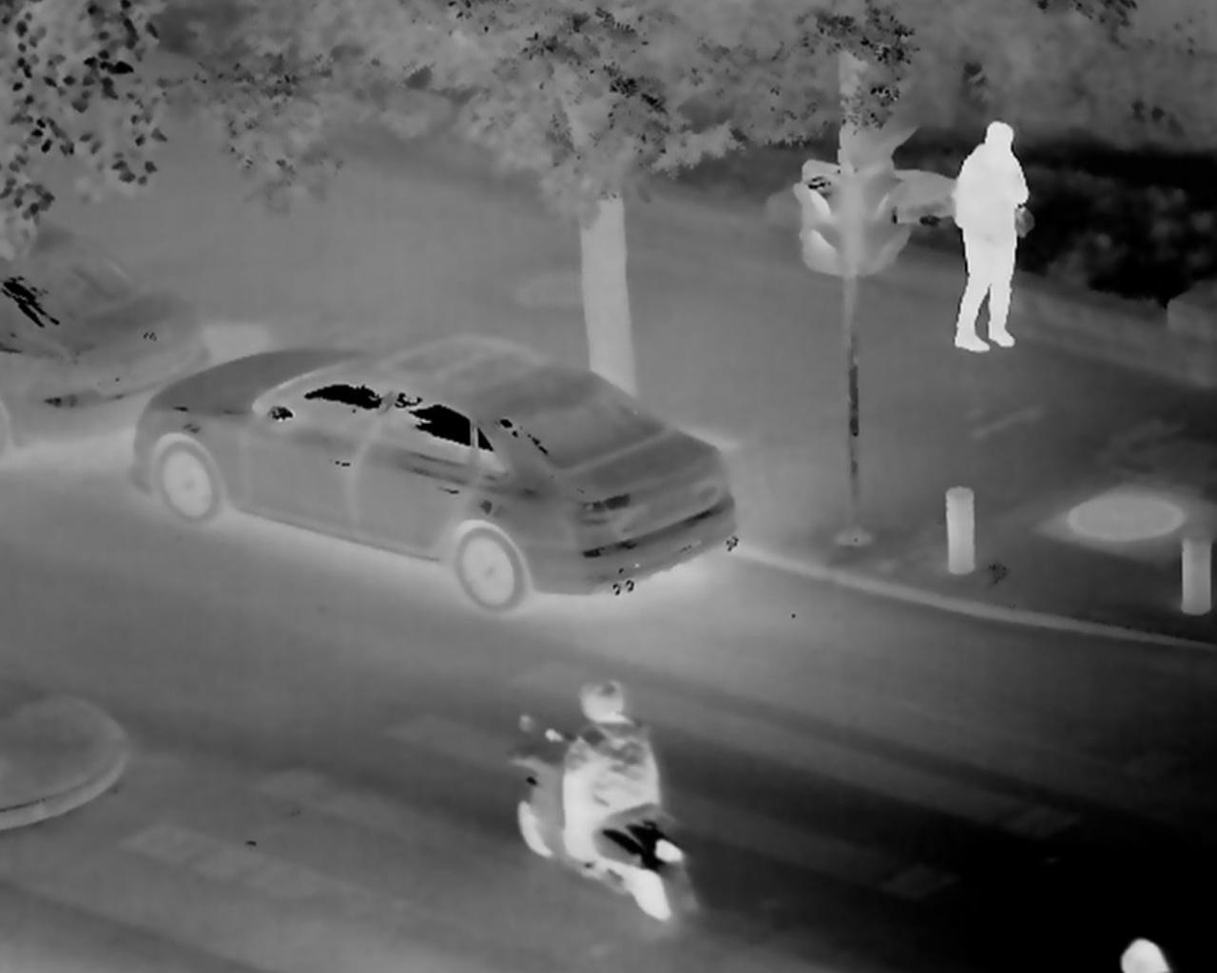person: (517, 672, 653, 878), (950, 119, 1033, 354), (1111, 924, 1170, 973)
